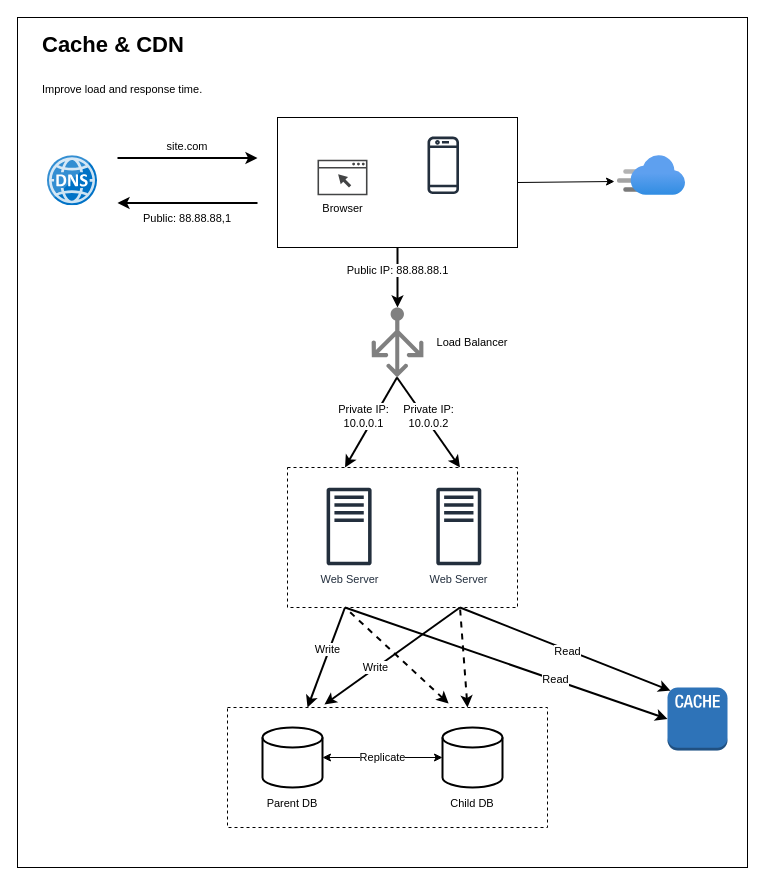
This 765x885 diagram has some shape labels left out. Each missing label, with the centre of its shape:
"CDN" goes at point 651,175.
"Mobile" goes at point 442,165.
